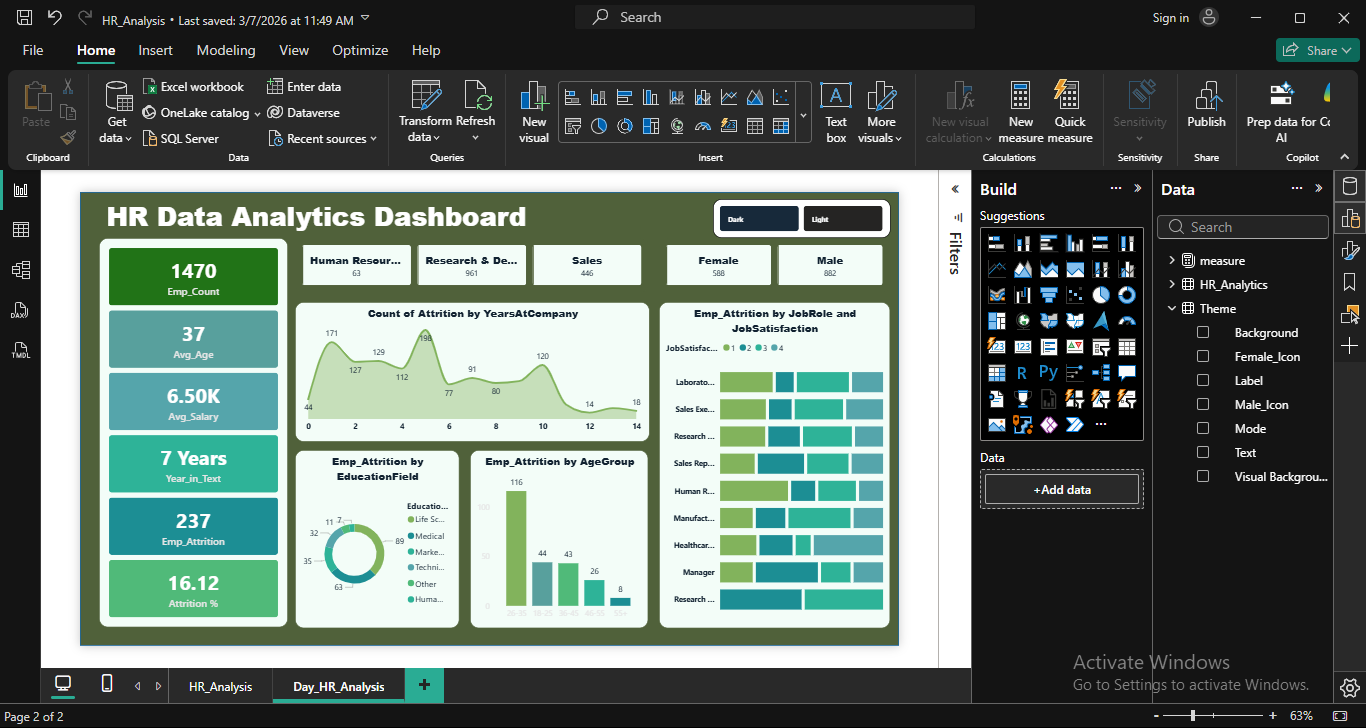

What the dashboard file says about the page in this screenshot:
{"tool":"powerbi","page":{"name":"HR_Analysis","canvas":[1300,720],"ordinal":0},"visuals":[{"type":"cardVisual","fields":{"Data":["measure.Emp_Count","measure.Avg_Age","measure.Avg_Salary","measure.Year_in_Text","measure.Emp_Attrition","measure.Attrition %"]},"box":[29.5,73.8,300,618],"z":0},{"type":"areaChart","fields":{"Y":["CountNonNull(HR_Analytics.Attrition)"],"Category":["HR_Analytics.YearsAtCompany"]},"box":[341.2,174.5,562.7,221.6],"z":1000},{"type":"donutChart","fields":{"Y":["measure.Emp_Attrition"],"Category":["HR_Analytics.EducationField"]},"box":[340.9,409.1,260.6,283.3],"z":2000},{"type":"hundredPercentStackedBarChart","fields":{"Category":["HR_Analytics.JobRole"],"Y":["measure.Emp_Attrition"],"Series":["HR_Analytics.JobSatisfaction"]},"box":[919.6,174.5,366.7,517.6],"z":3000},{"type":"columnChart","fields":{"Category":["HR_Analytics.AgeGroup"],"Y":["measure.Emp_Attrition"]},"box":[619.7,409.1,283.3,283.3],"z":4000},{"type":"advancedSlicerVisual","fields":{"Values":["HR_Analytics.Gender"]},"box":[919.7,73.8,367.2,86.9],"z":5000},{"type":"advancedSlicerVisual","fields":{"Values":["HR_Analytics.Department"]},"box":[341,73.8,562.3,86.9],"z":6000},{"type":"card","fields":{"Values":["measure.HR"]},"box":[0,0,761.7,73.3],"z":7000}]}

Visuals, with their boxes on the page's 1300x720 design canvas (x1, y1, x2, y2). These are canvas units, not pixel positions in the 1366x728 screenshot, which may show the page scaled, cropped or inside an application window:
cardVisual - measure.Emp_Count x measure.Avg_Age: detection(30, 74, 330, 692)
areaChart - CountNonNull(HR_Analytics.Attrition) x HR_Analytics.YearsAtCompany: detection(341, 174, 904, 396)
donutChart - measure.Emp_Attrition x HR_Analytics.EducationField: detection(341, 409, 602, 692)
hundredPercentStackedBarChart - HR_Analytics.JobRole x measure.Emp_Attrition: detection(920, 174, 1286, 692)
columnChart - HR_Analytics.AgeGroup x measure.Emp_Attrition: detection(620, 409, 903, 692)
advancedSlicerVisual - HR_Analytics.Gender: detection(920, 74, 1287, 161)
advancedSlicerVisual - HR_Analytics.Department: detection(341, 74, 903, 161)
card - measure.HR: detection(0, 0, 762, 73)
